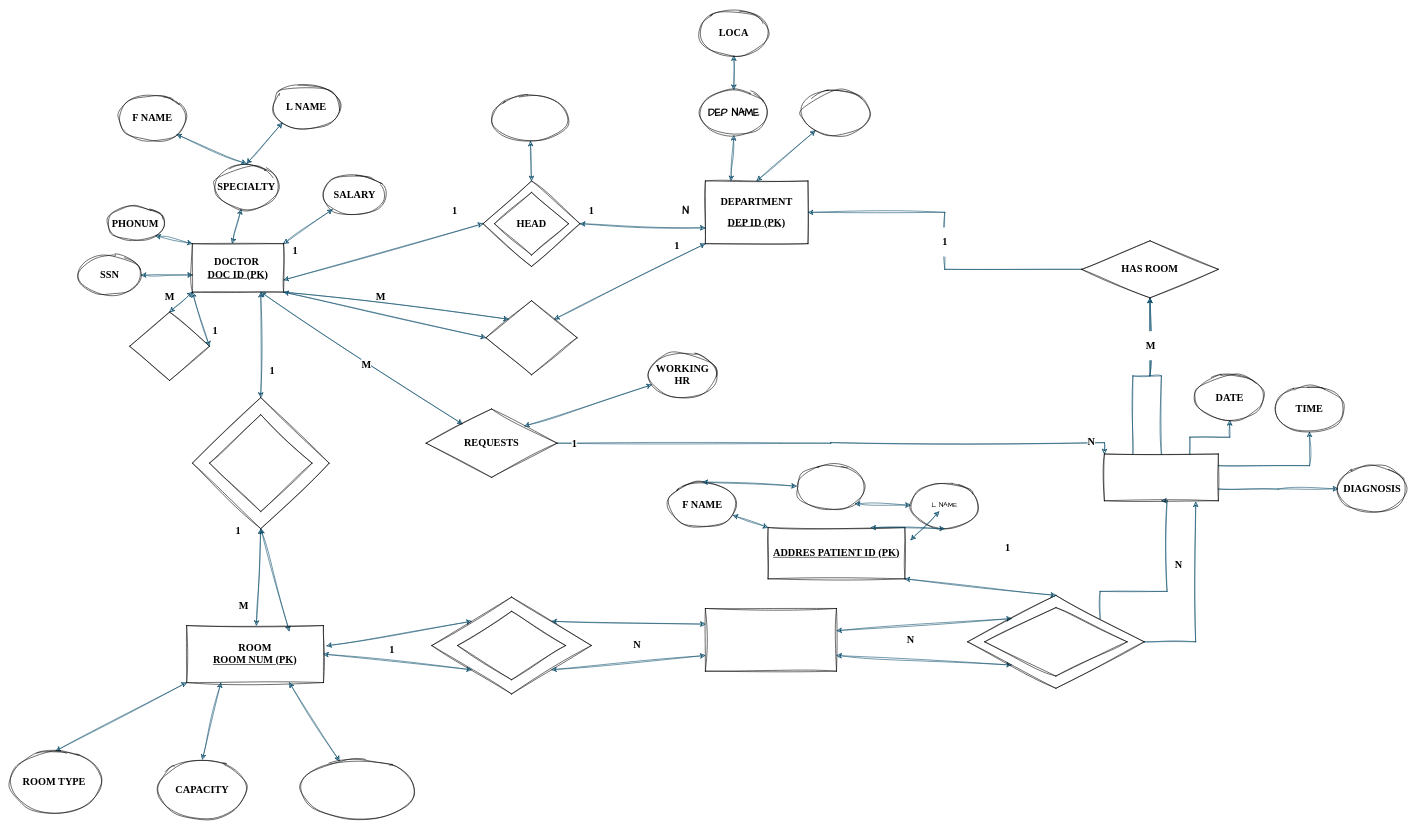
The diagram is 1416 pixels wide and 829 high, and some of its shapes have lost their labels. The shapes that lost their labels are listed below. From the top down, each one's box as (x1, y1, x2, y2) in pixels, then its label:
(491, 95, 569, 141): HEAD START DATA
(802, 89, 871, 135): PHONE NUM
(129, 312, 209, 380): SUPERVISES
(485, 300, 577, 375): BELONGS
(209, 414, 312, 512): ATTENDS
(1104, 453, 1218, 501): APPOINTMENT
(796, 464, 865, 510): BDATA
(457, 611, 566, 680): HOSTS ADMI
(705, 608, 836, 671): ADMI DATE DISCH DATE ADMI ID (PK)
(984, 607, 1127, 676): MAKES ADNI
(300, 759, 415, 819): FLOOR
